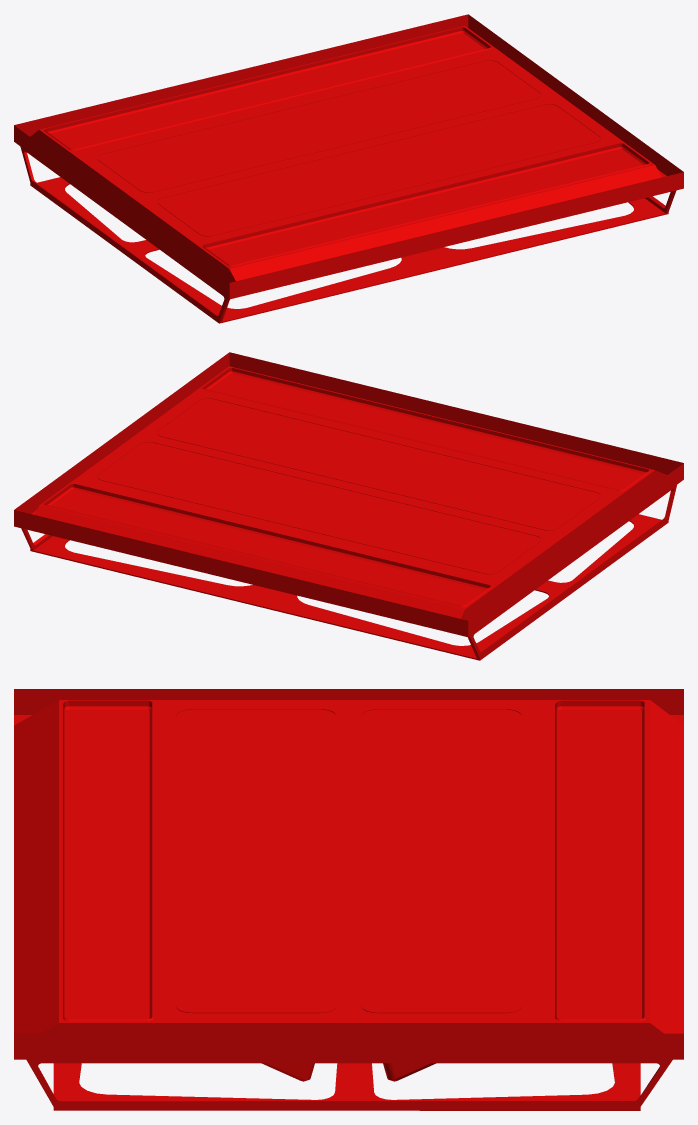
The model's file is Ceiling_1.fbx.
3 renders of one model, top to bottom at view 1: azimuth 30°, elevation 25°; view 2: azimuth 150°, elevation 25°; view 3: azimuth 270°, elevation 25°, orthographic. The views are drawn at different scales.
Visible parts, largest first — view 1: polySurface2181; view 2: polySurface2181; view 3: polySurface2181.
Part boxes in pixels (x1=…): polySurface2181: x1=14, y1=14, x2=683, y2=323; polySurface2181: x1=14, y1=352, x2=683, y2=660; polySurface2181: x1=14, y1=689, x2=683, y2=1110.
Size of the model in its own units: 377 by 41.04 by 310.
